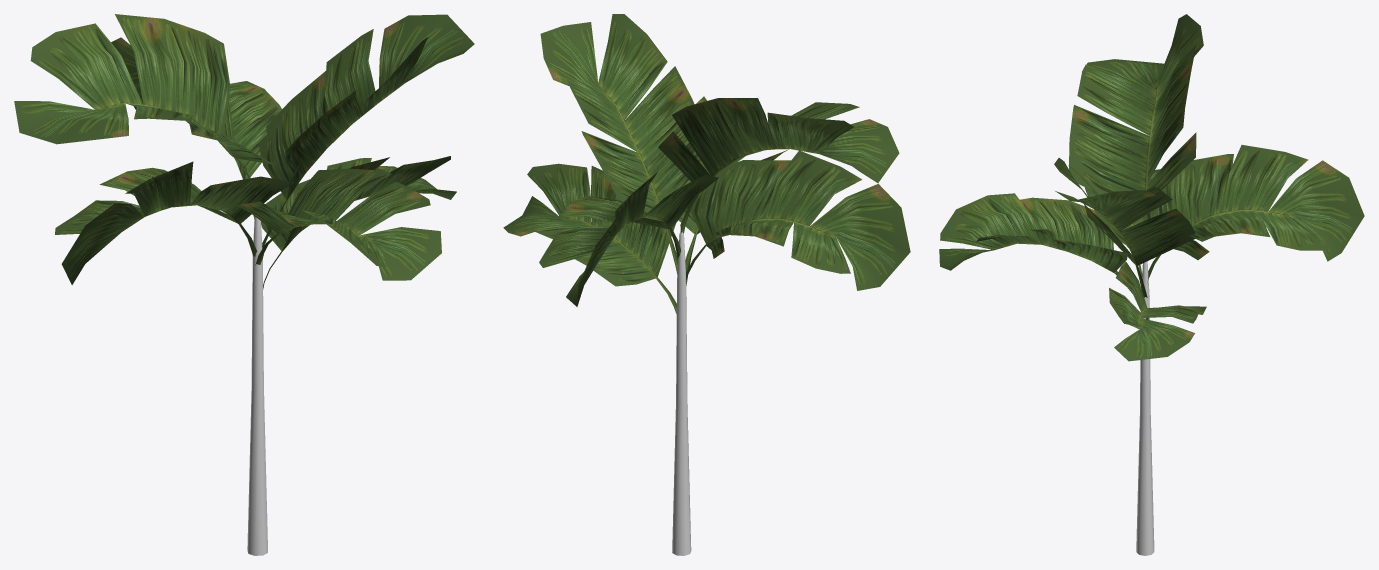
The model's file is Arcea_palm2.fbx.
The picture shows the model from 3 angles, left to right: view 1: azimuth 30°, elevation 25°; view 2: azimuth 150°, elevation 25°; view 3: azimuth 270°, elevation 25°; orthographic projection. The views are drawn at different scales.
Parts seen in each view (by area): view 1: polySurface127; view 2: polySurface127; view 3: polySurface127.
Part boxes in pixels (x1,y1,x2,y2): polySurface127: (14,14,474,555); polySurface127: (503,14,910,555); polySurface127: (939,14,1364,555).
Bounding box in the file's own units: 19.22 × 24.38 × 20.38.
Materials: 2 (1 with a texture image).
